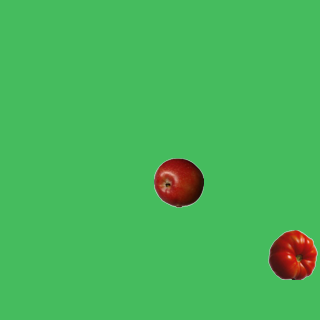Apple Braeburn: (153, 157, 203, 207)
Tomato 3: (267, 229, 317, 279)
